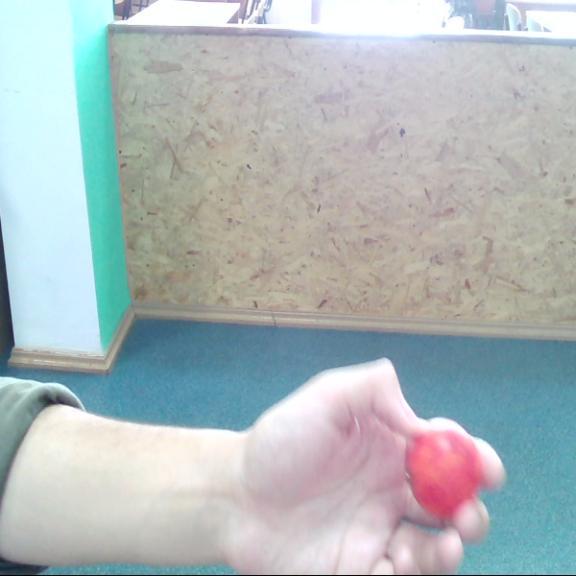ball: (407, 420, 482, 518)
